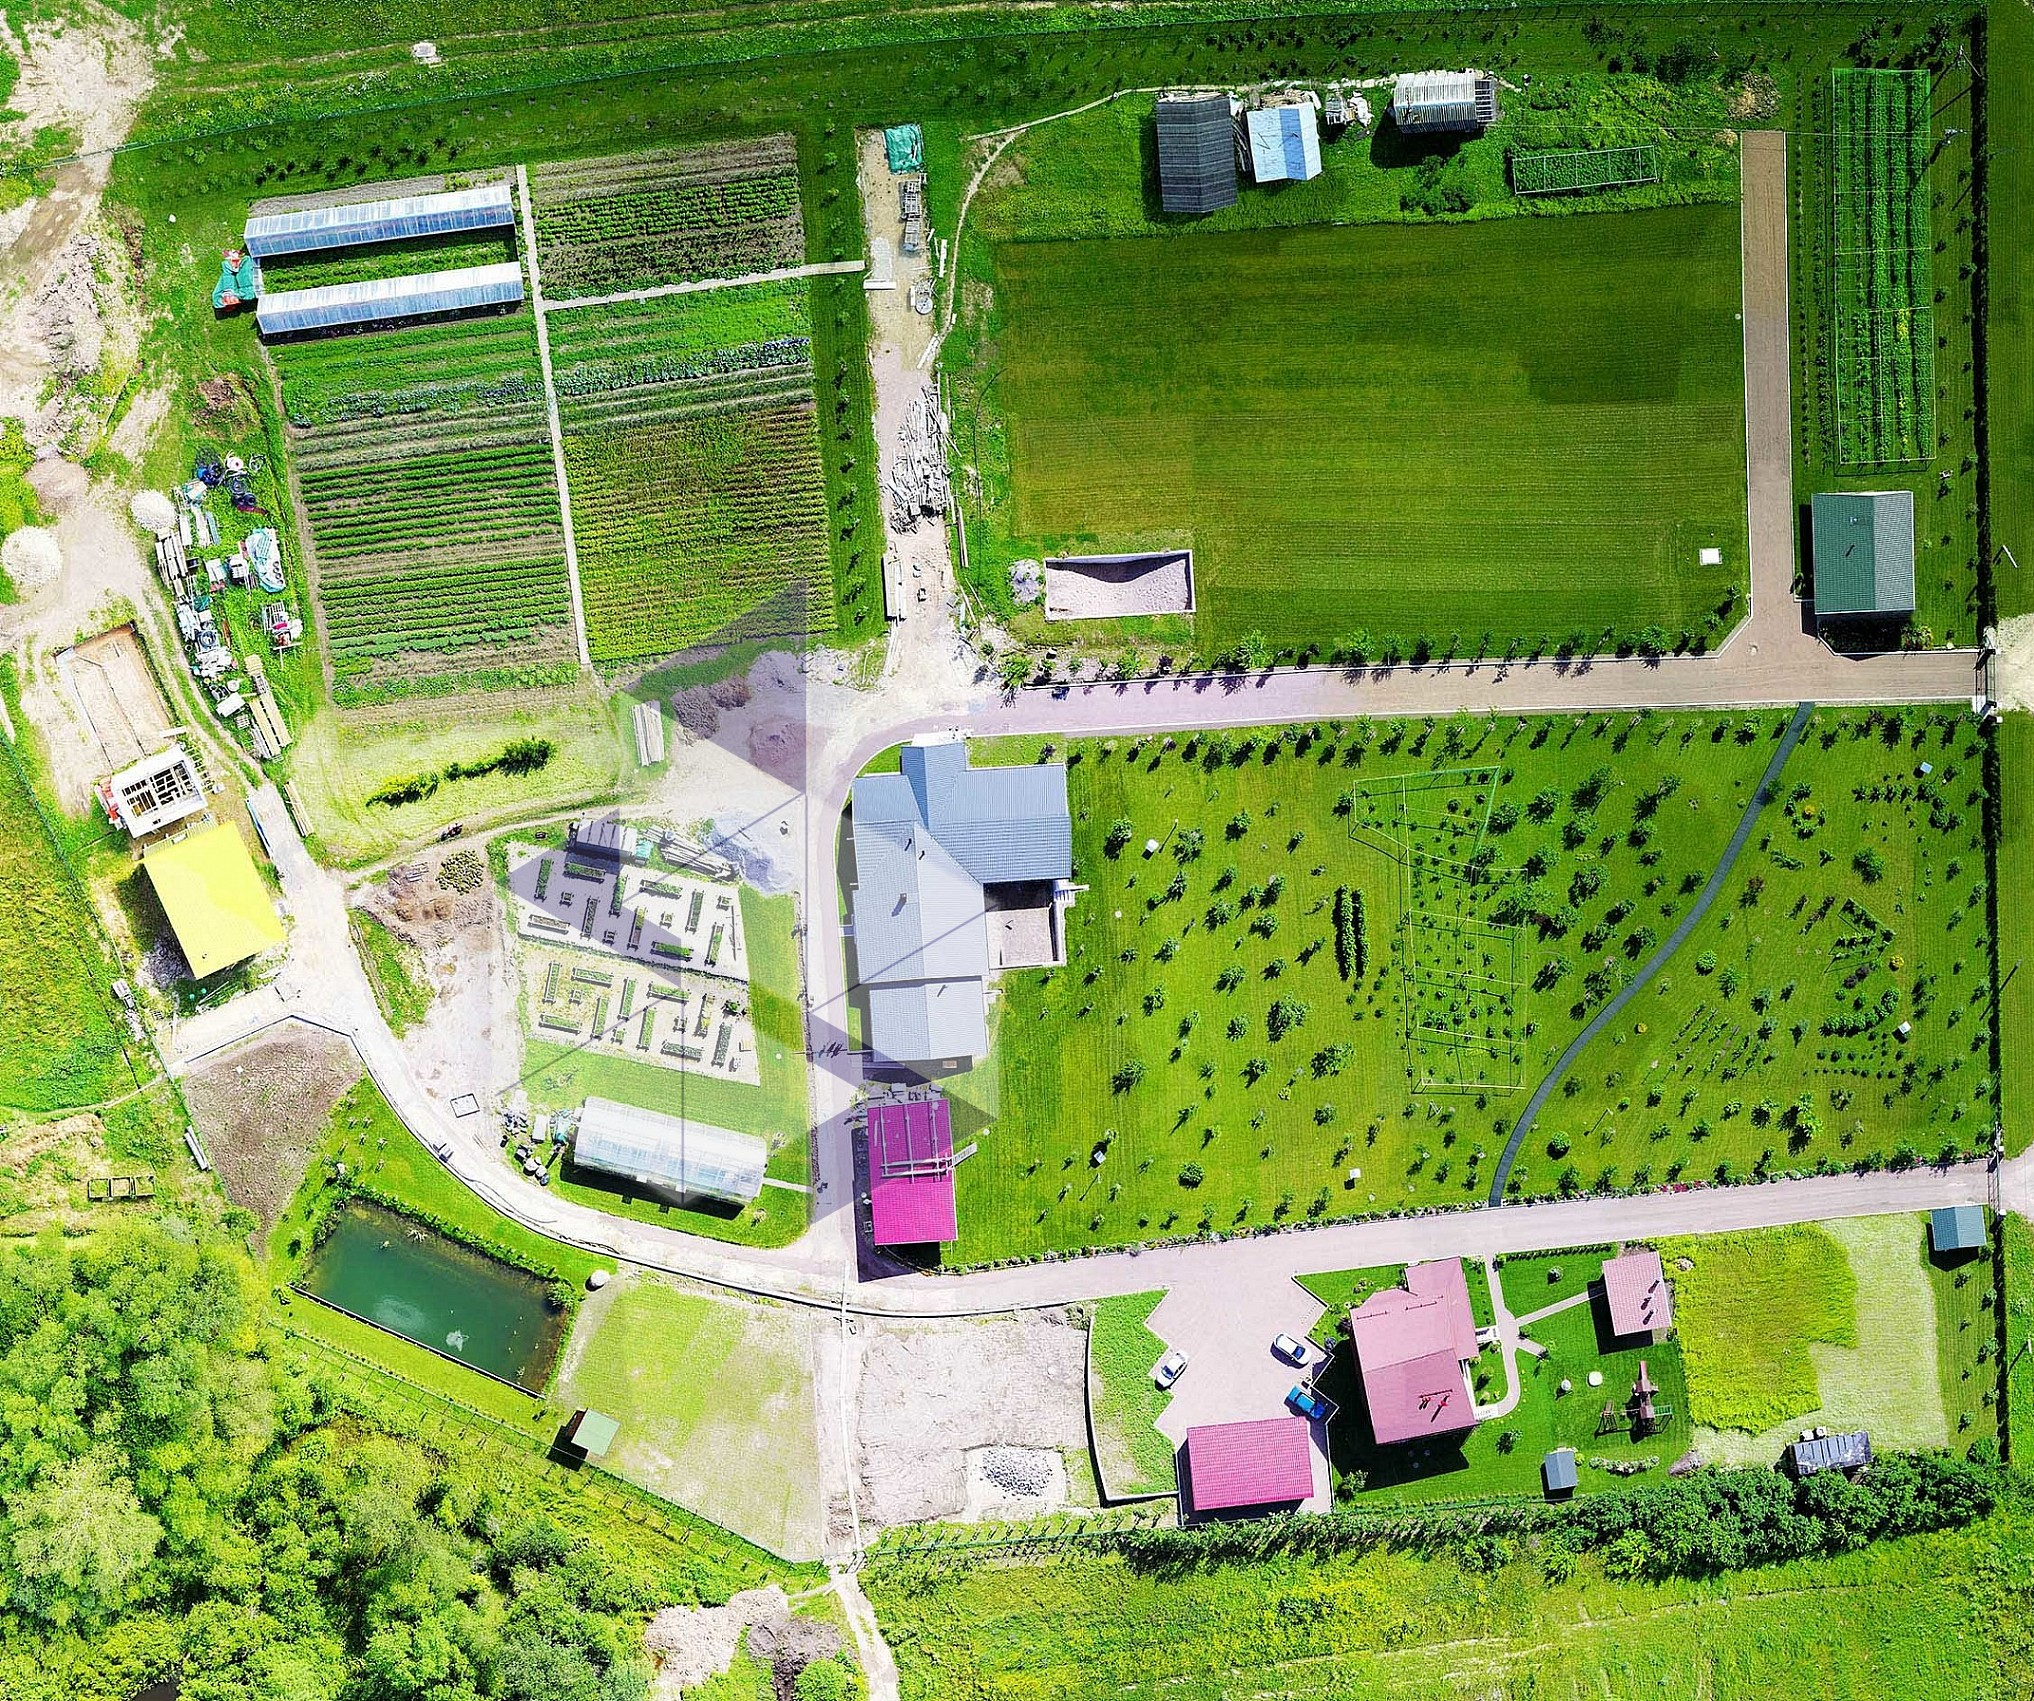build: (845, 720, 1078, 1066), (1336, 1257, 1487, 1453), (559, 1093, 777, 1220), (1156, 1410, 1328, 1527), (1799, 483, 1933, 630), (855, 1096, 970, 1253), (1144, 91, 1243, 226), (1581, 1247, 1683, 1350), (1238, 103, 1338, 186), (1387, 66, 1493, 142), (1926, 1198, 1997, 1265)
